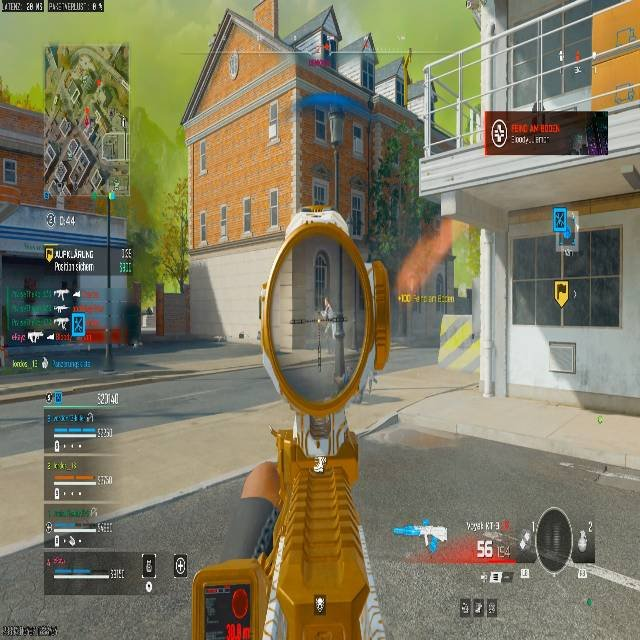player: (318, 298, 343, 342)
